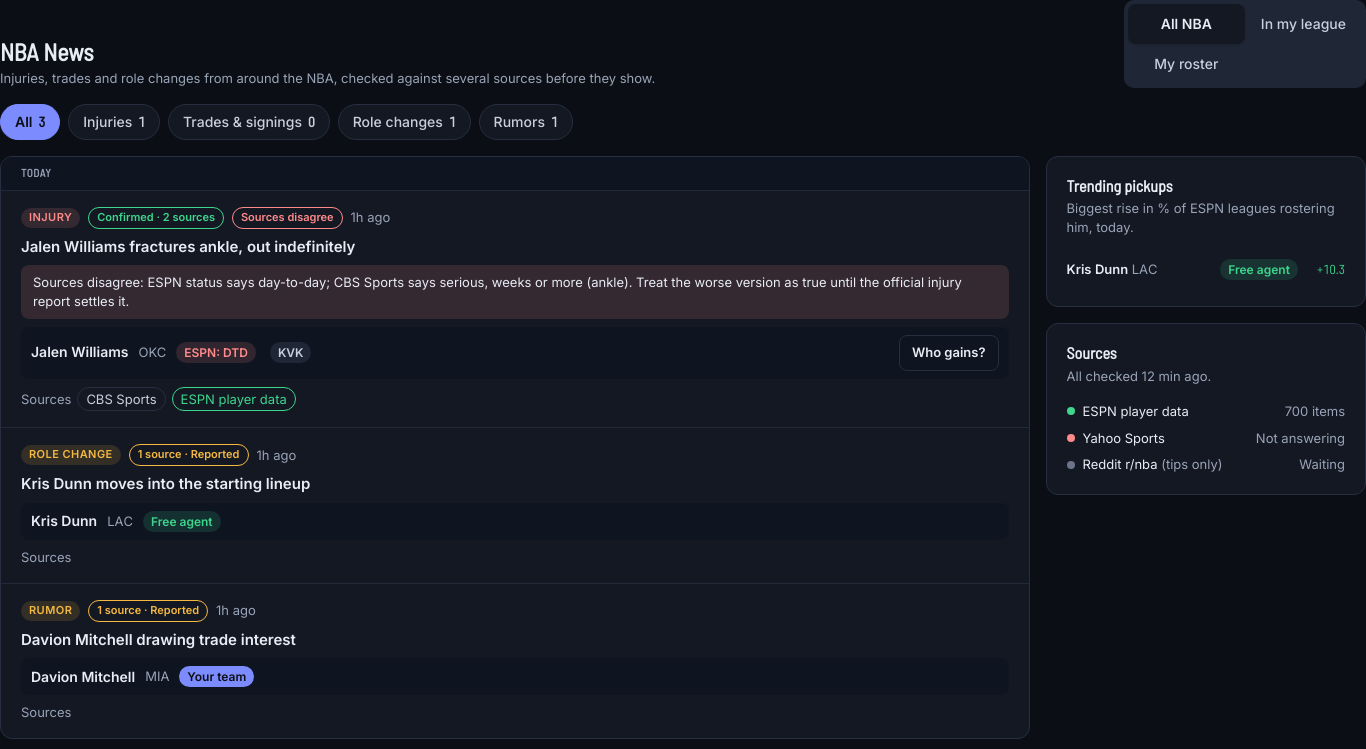
it: News › shows who gains from an injury, with minutes, evidence and owners
This screenshot has width=1366, height=749.
Expected: the link "Jalen Williams fractures ankle, out indefinitely" is shown, [21,237,356,256]
Click the button "Who gains?". click: (949, 352)
box: [899,334,999,370]
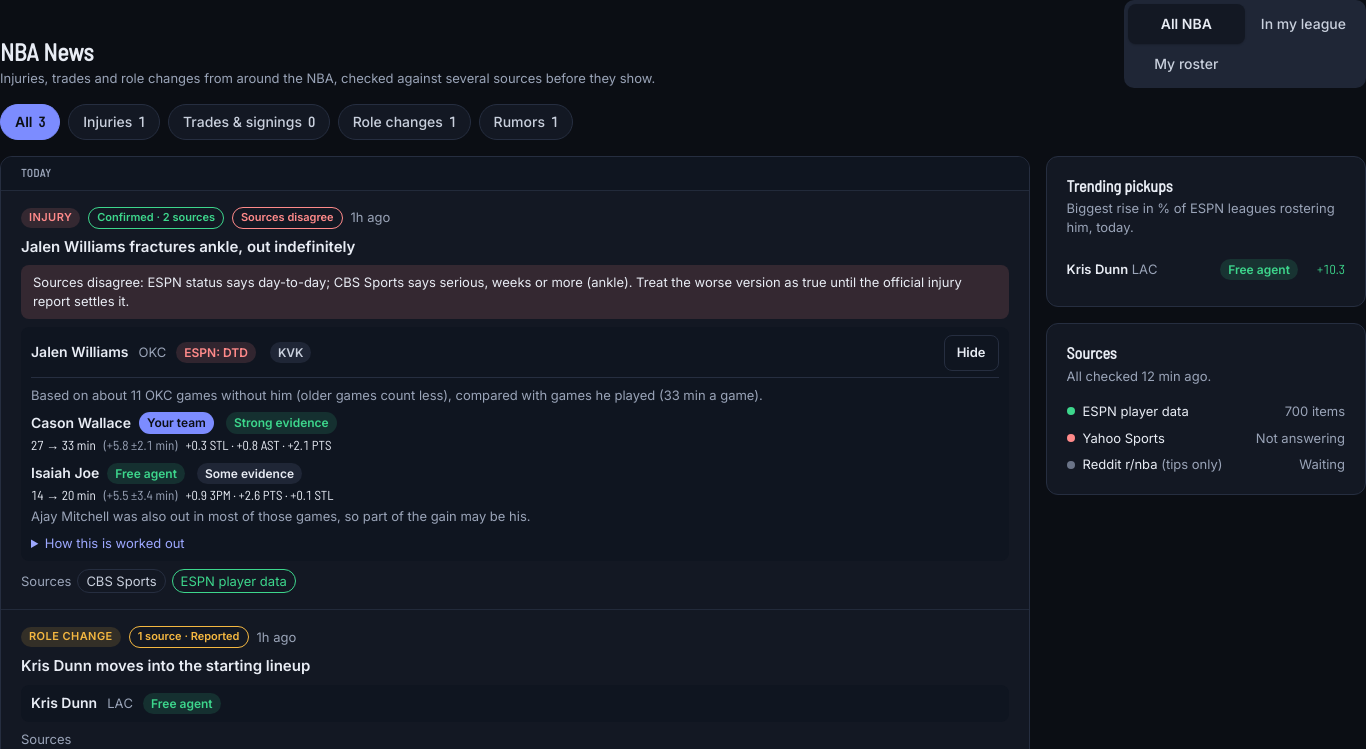
Expected: the text "Your team" is shown, [139,412,214,434]
Expected: the text "Strong evidence" is shown, [226,412,337,434]
Expected: the text "27 → 33 min" is shown, [31,436,96,455]
Click the button "Hide". click: (971, 352)
box: [944,334,998,370]
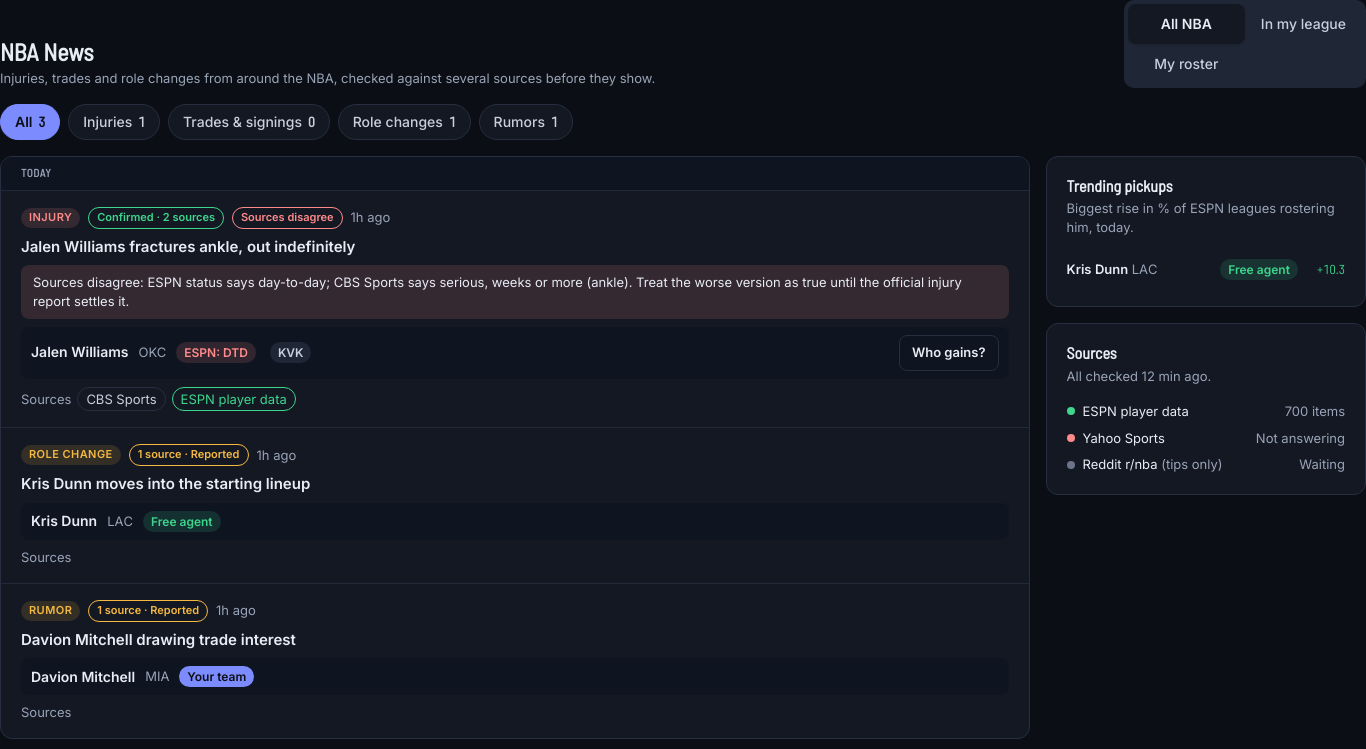
Expected: the text "Cason Wallace" is gone
